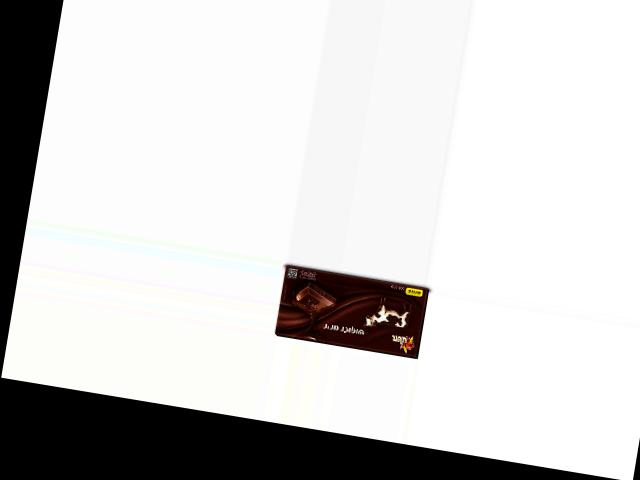chocolate: (275, 264, 433, 360)
